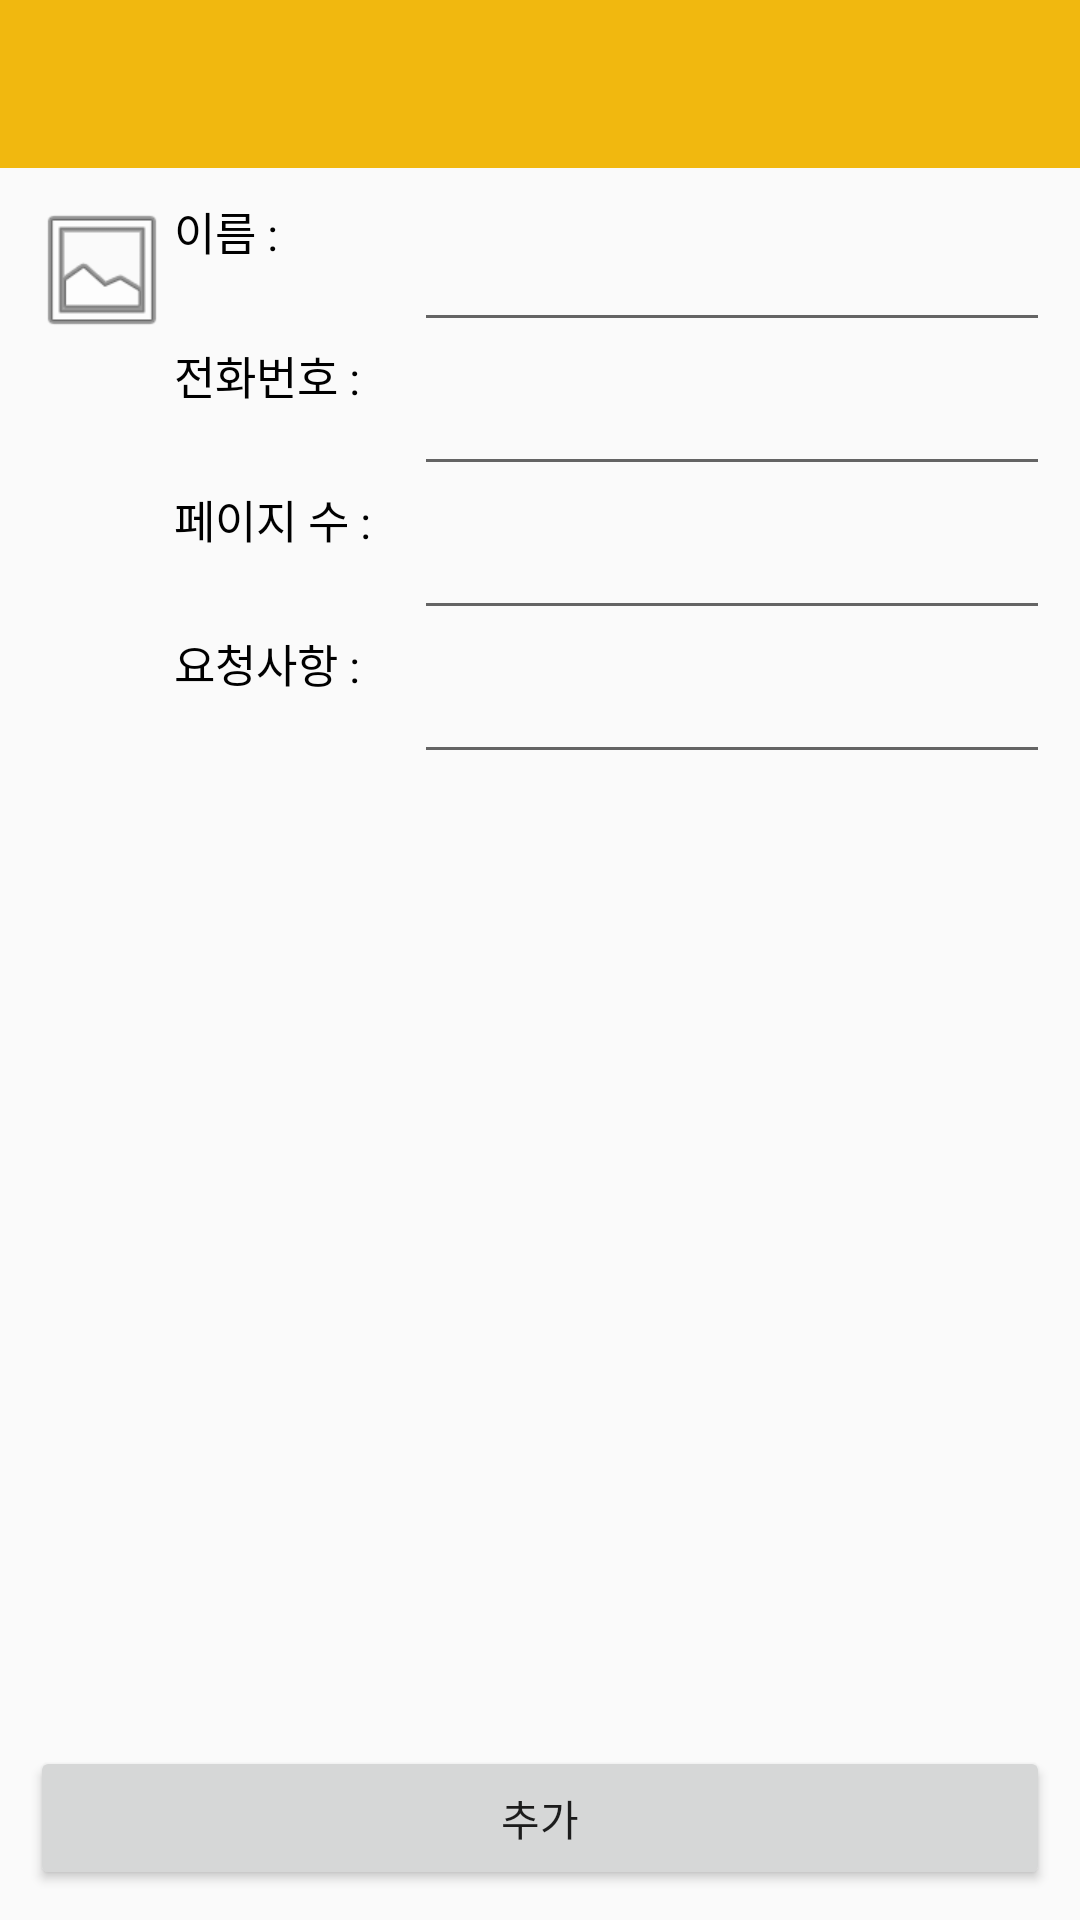

Icon click points for this 1080w x 1920h phone screenshot, format point (x, y):
gallery: point (102, 270)
